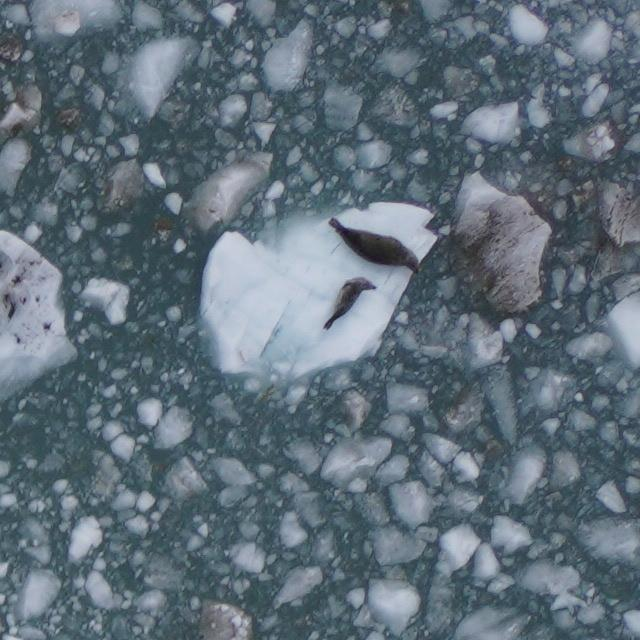seal: (322, 213, 426, 278), (320, 275, 382, 332)
